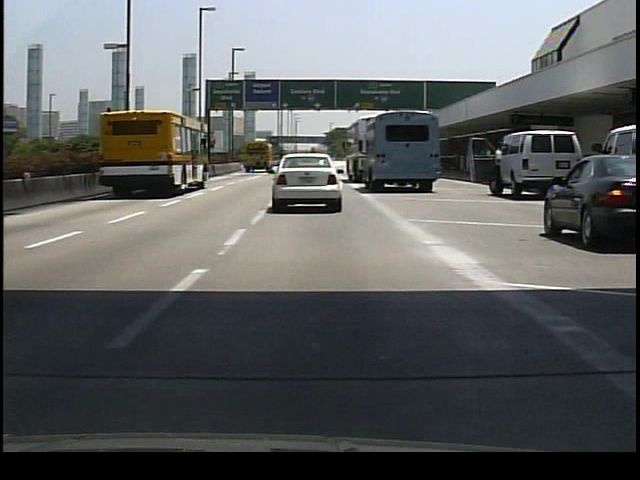person: (488, 138, 506, 206)
